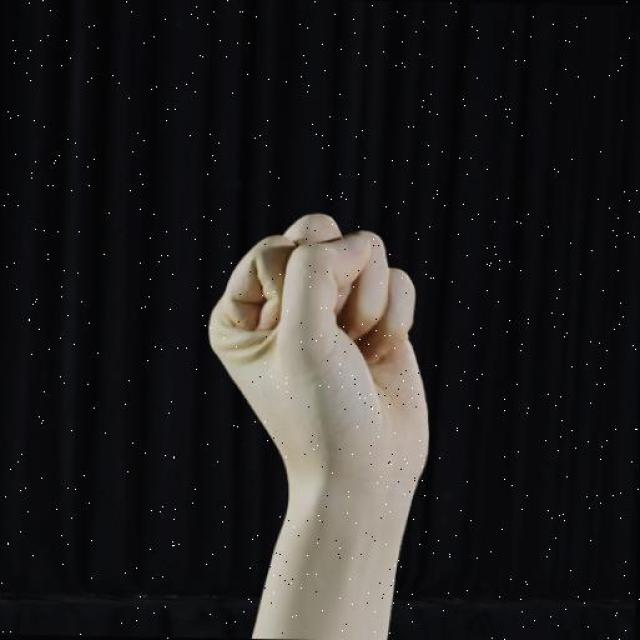S: (200, 206, 439, 498)
